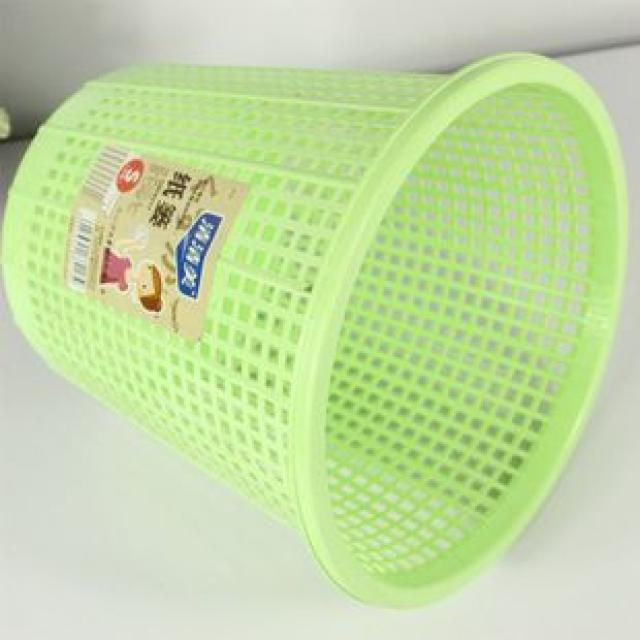dustbin: (0, 50, 640, 617)
